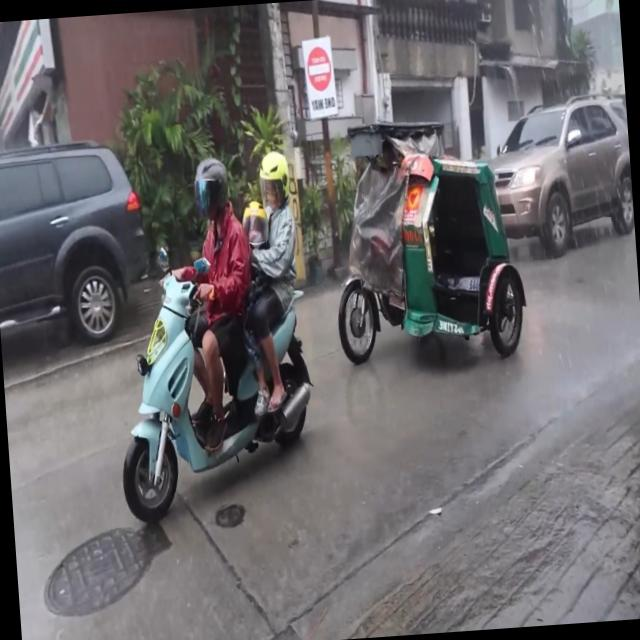half: (190, 156, 230, 223), (256, 148, 294, 213), (238, 198, 272, 251)
